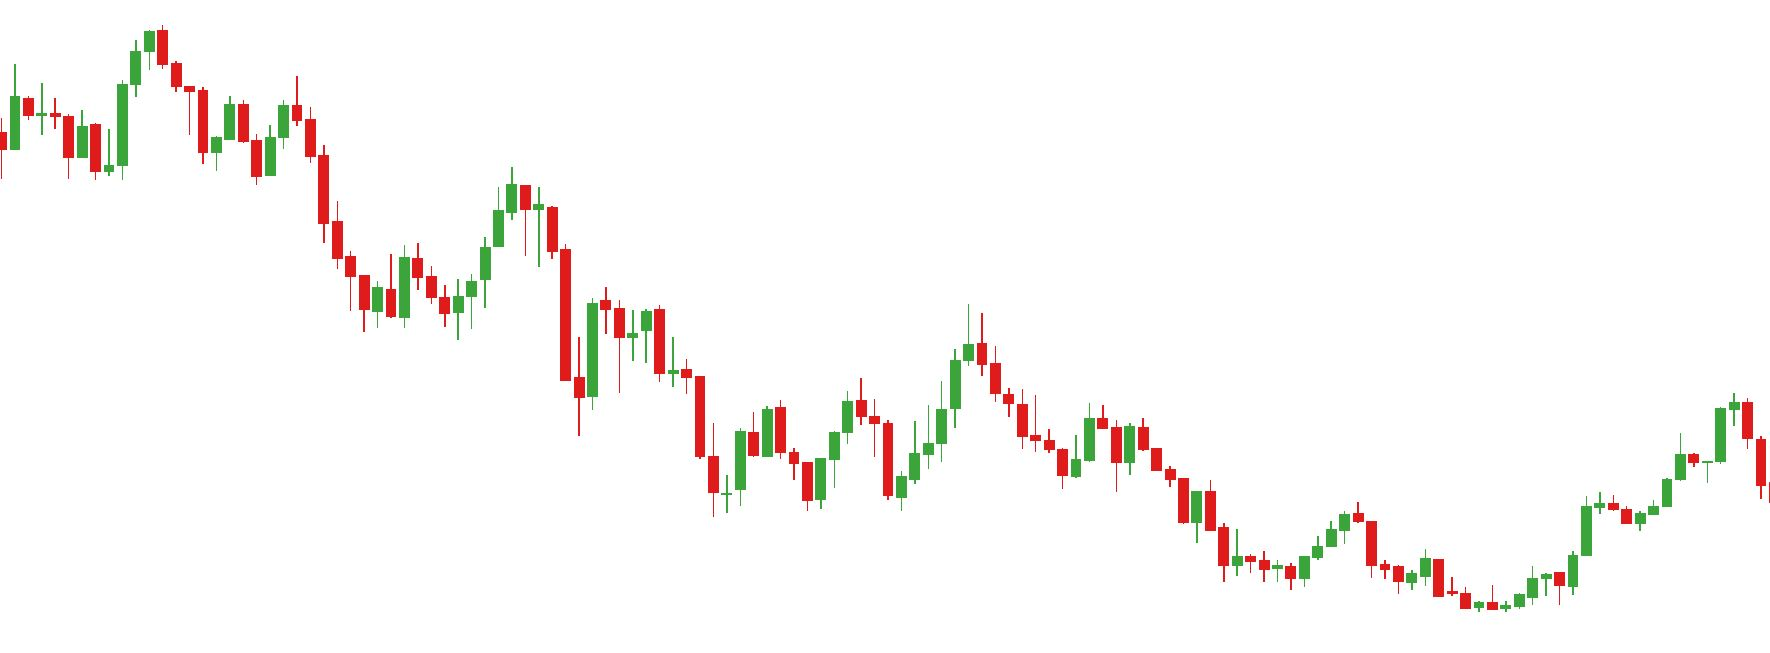sell: (855, 301, 1001, 451), (7, 26, 170, 129)
